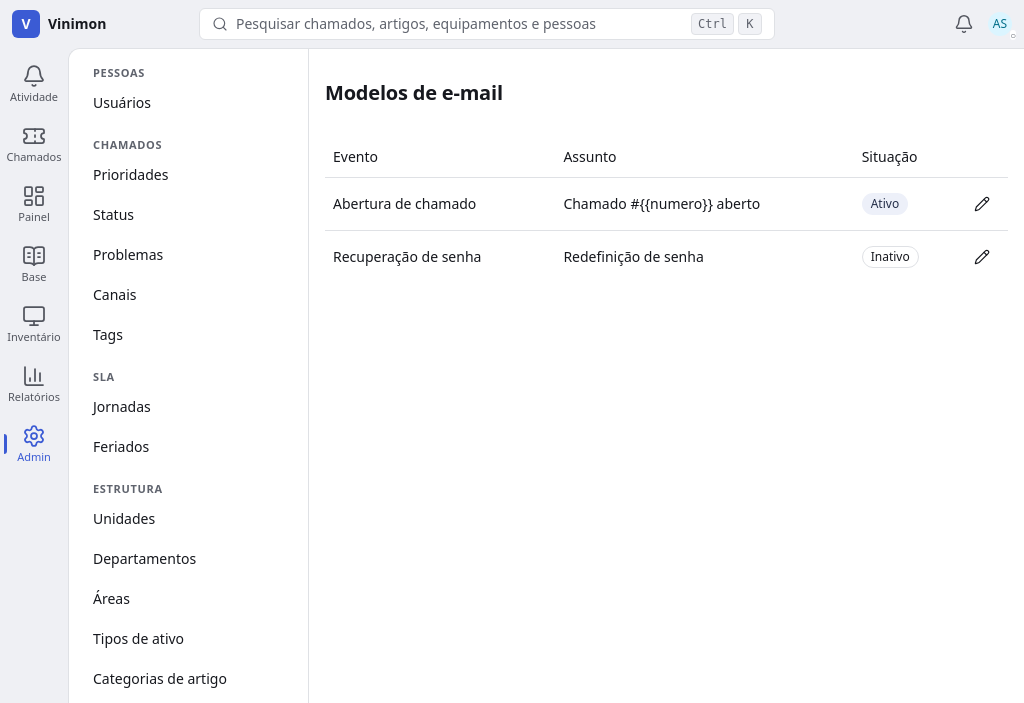
Test: /admin/modelos-email › (c) 400 com detalhes aparece no campo
What coordinates should you click on to do the following:
click the button named "Editar modelo Abertura de chamado"
I would click on:
 (982, 204)
Its box is 964,186 -> 1000,222.
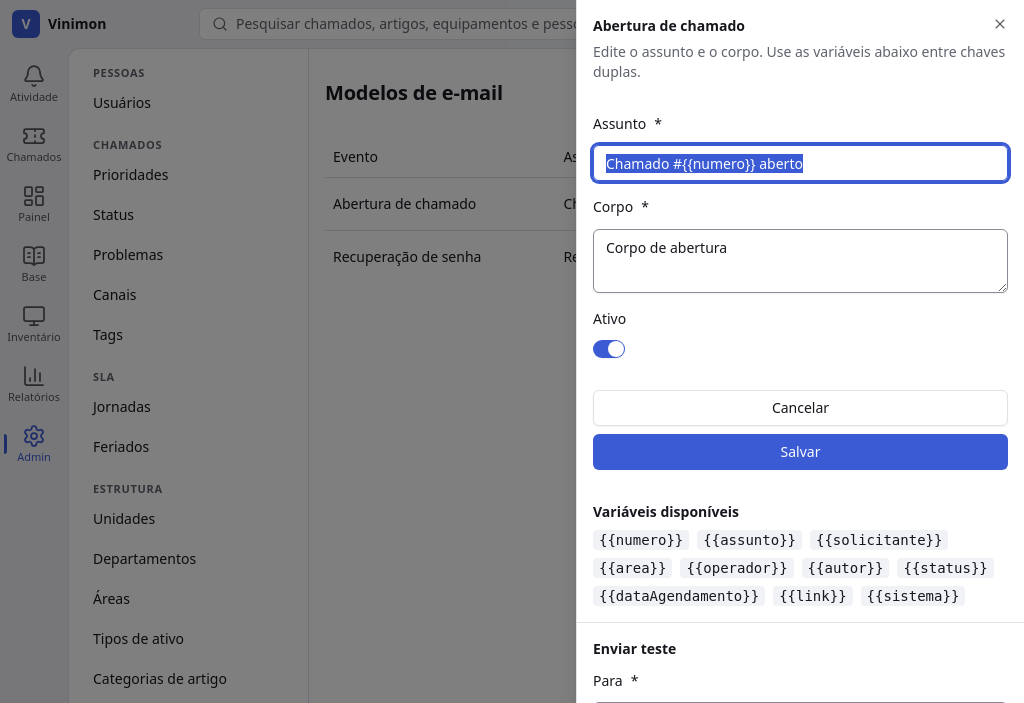
What coordinates should you click on to do the following:
click the button "Salvar"
I would click on:
 (800, 452)
Its box is 593,434 -> 1008,470.
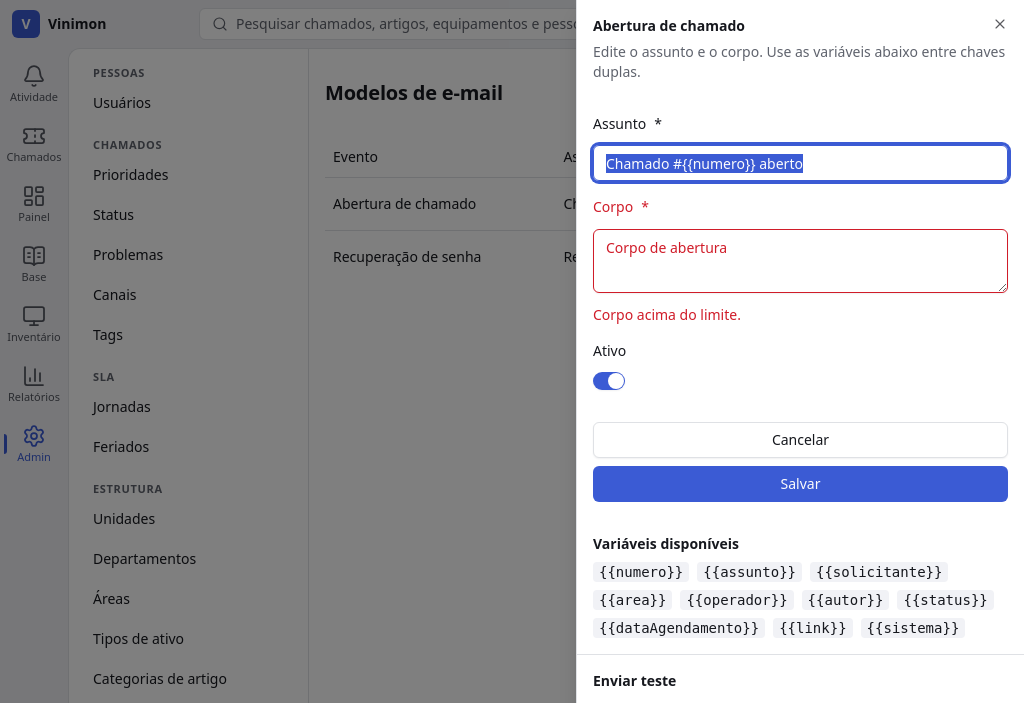
Now the text "Corpo acima do limite." is shown, box 593,304 -> 741,324
